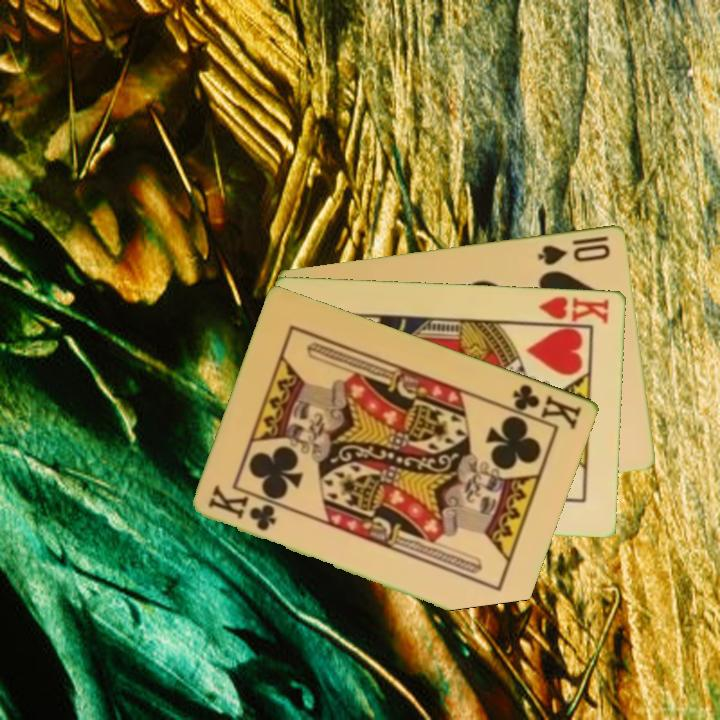10s: (535, 240, 614, 268)
Kc: (501, 380, 585, 432), (205, 485, 280, 534)
Kh: (531, 292, 613, 327)
